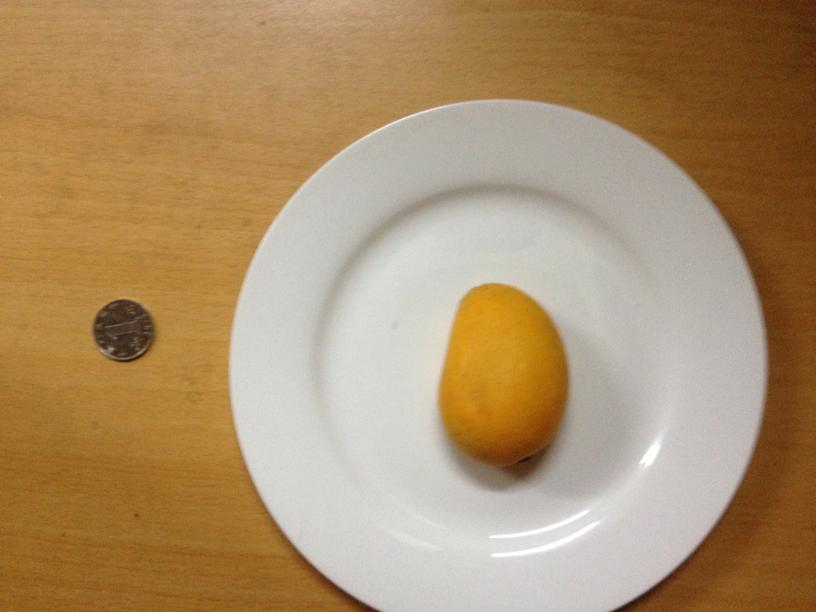coin: (93, 299, 155, 359)
mango: (443, 283, 569, 463)
